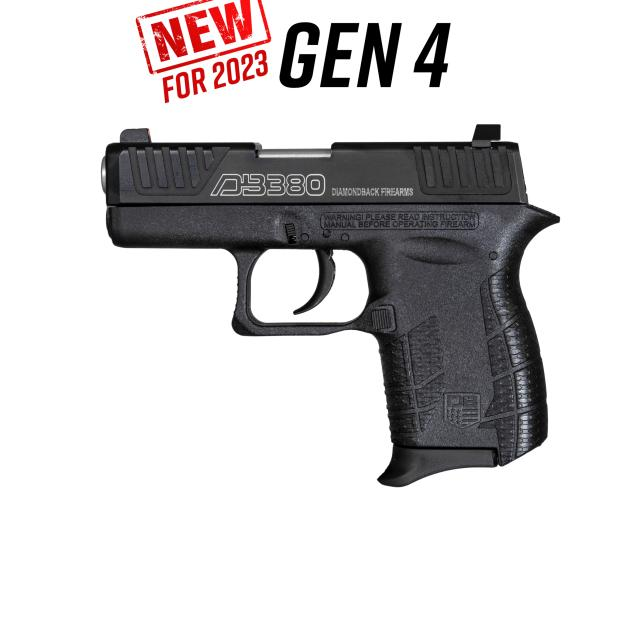Weapon: (102, 125, 559, 486)
